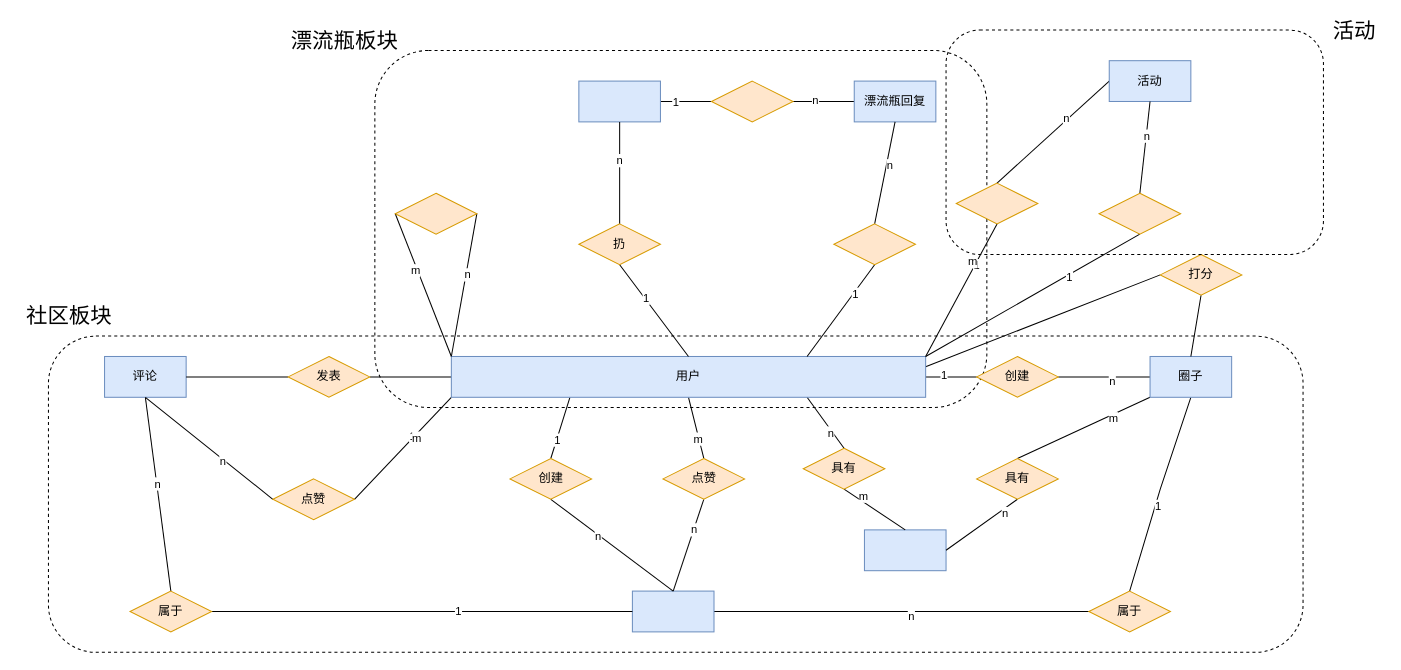
Some shapes in this 1401 by 670 pixel diagram are drawn without their labels. Each missing label, with the centre of its shape:
兴趣标签: the point at 904,550
参与: the point at 996,203
发布: the point at 1139,213
发送: the point at 874,244
回复: the point at 751,101
好友: the point at 435,213
帖子: the point at 672,611
漂流瓶: the point at 619,101
